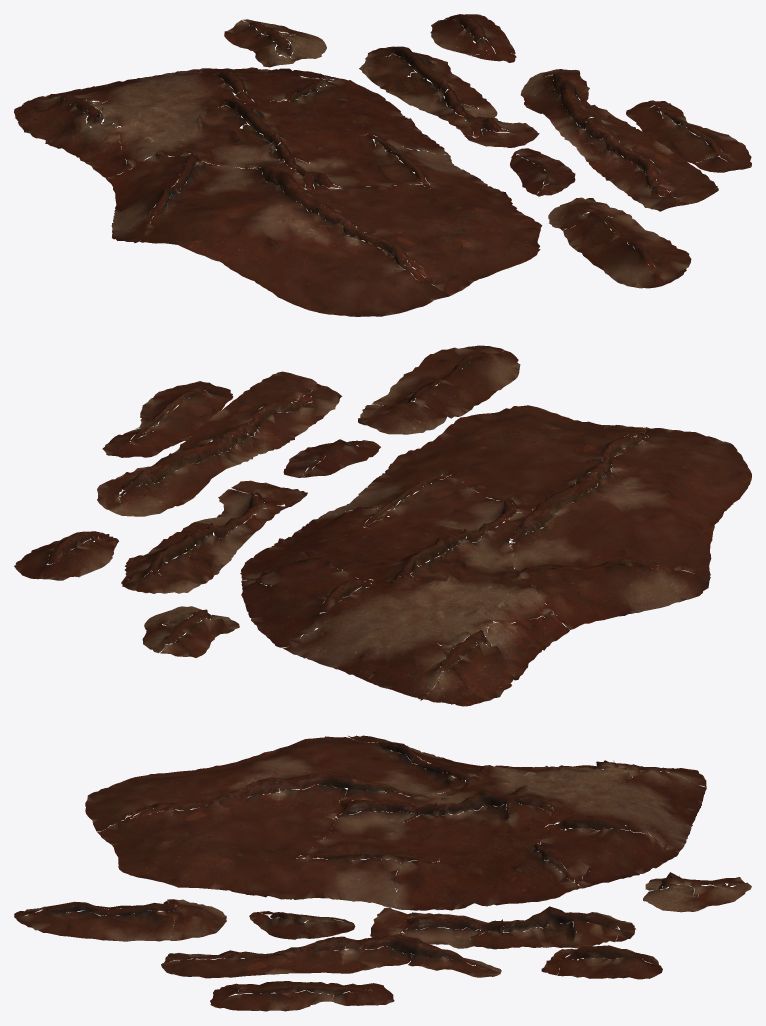
Rendered from root_cluster_02.glb.
The picture shows the model from 3 angles, top to bottom: view 1: azimuth 30°, elevation 25°; view 2: azimuth 150°, elevation 25°; view 3: azimuth 270°, elevation 25°; orthographic projection. The views are drawn at different scales.
Parts seen in each view (by area): view 1: root_cluster_02_a, root_cluster_02_f, root_cluster_02_d, root_cluster_02_b, root_cluster_02_g, root_cluster_02_e, root_cluster_02_h, root_cluster_02_c; view 2: root_cluster_02_a, root_cluster_02_f, root_cluster_02_d, root_cluster_02_b, root_cluster_02_g, root_cluster_02_h, root_cluster_02_e, root_cluster_02_c; view 3: root_cluster_02_a, root_cluster_02_f, root_cluster_02_d, root_cluster_02_b, root_cluster_02_g, root_cluster_02_h, root_cluster_02_e, root_cluster_02_c.
Part boxes in pixels (x1,y1,x2,y2): root_cluster_02_a: (14, 67, 542, 316); root_cluster_02_f: (520, 69, 718, 211); root_cluster_02_d: (359, 46, 539, 147); root_cluster_02_b: (548, 197, 691, 288); root_cluster_02_g: (626, 100, 751, 172); root_cluster_02_e: (224, 19, 326, 67); root_cluster_02_h: (430, 14, 516, 62); root_cluster_02_c: (510, 148, 575, 196); root_cluster_02_a: (240, 405, 751, 706); root_cluster_02_f: (97, 371, 342, 516); root_cluster_02_d: (121, 480, 307, 593); root_cluster_02_b: (358, 345, 520, 434); root_cluster_02_g: (102, 381, 233, 457); root_cluster_02_h: (14, 531, 118, 580); root_cluster_02_e: (142, 606, 239, 657); root_cluster_02_c: (283, 439, 380, 477); root_cluster_02_a: (85, 735, 706, 910); root_cluster_02_f: (161, 933, 501, 978); root_cluster_02_d: (370, 906, 635, 949); root_cluster_02_b: (14, 899, 226, 941); root_cluster_02_g: (210, 981, 394, 1011); root_cluster_02_h: (541, 945, 662, 979); root_cluster_02_e: (643, 872, 751, 912); root_cluster_02_c: (249, 911, 355, 939).
Bounding box in the file's own units: 2.38 × 0.1968 × 2.71.
Materials: 1 (1 with a texture image).
